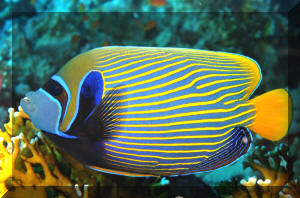Pomacanthus_imperator: (13, 37, 294, 178)
